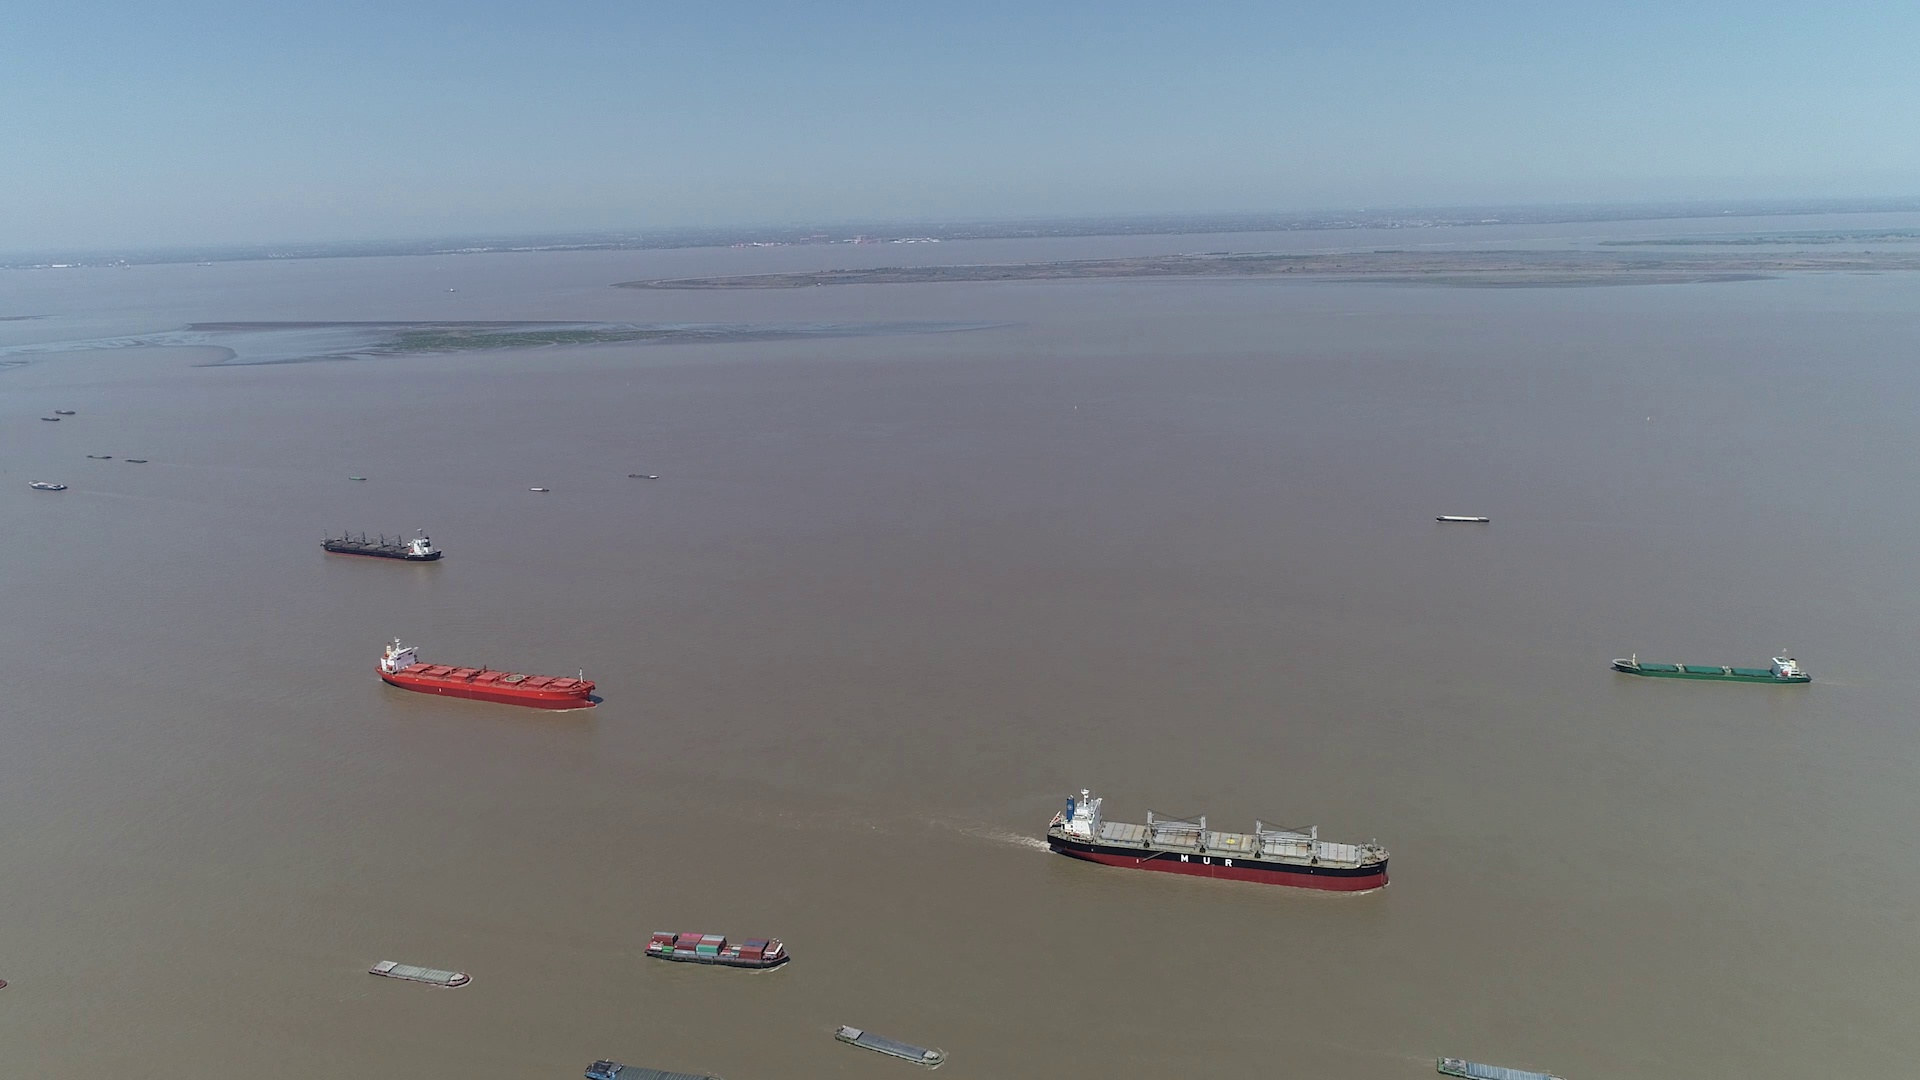ship: (1047, 789, 1393, 889), (377, 638, 597, 709), (1611, 651, 1811, 683), (644, 930, 790, 971), (833, 1026, 944, 1067), (320, 527, 442, 562), (368, 957, 468, 988), (585, 1059, 720, 1080), (1437, 1058, 1559, 1080), (1437, 513, 1490, 524), (26, 480, 69, 491)
